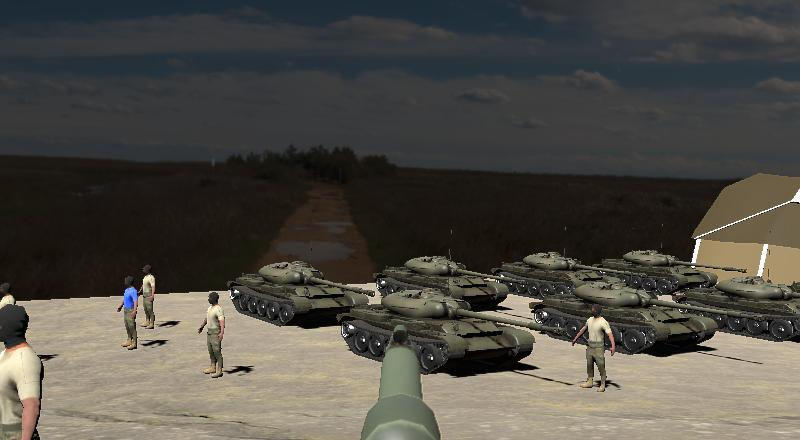Human: (0, 296, 56, 440), (570, 300, 618, 395), (196, 288, 229, 379), (115, 273, 141, 353), (137, 260, 160, 332)
Tank: (520, 280, 794, 358), (338, 285, 567, 377), (522, 282, 787, 358), (224, 253, 376, 331), (373, 251, 525, 315), (683, 275, 800, 349), (592, 245, 750, 297), (492, 248, 644, 300)
